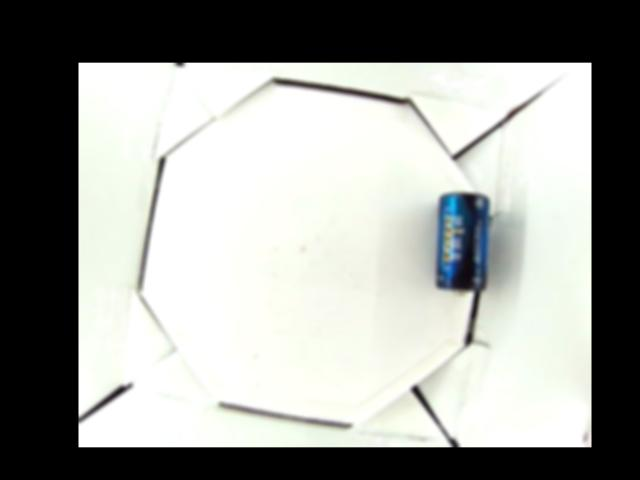Battery: (437, 191, 488, 298)
